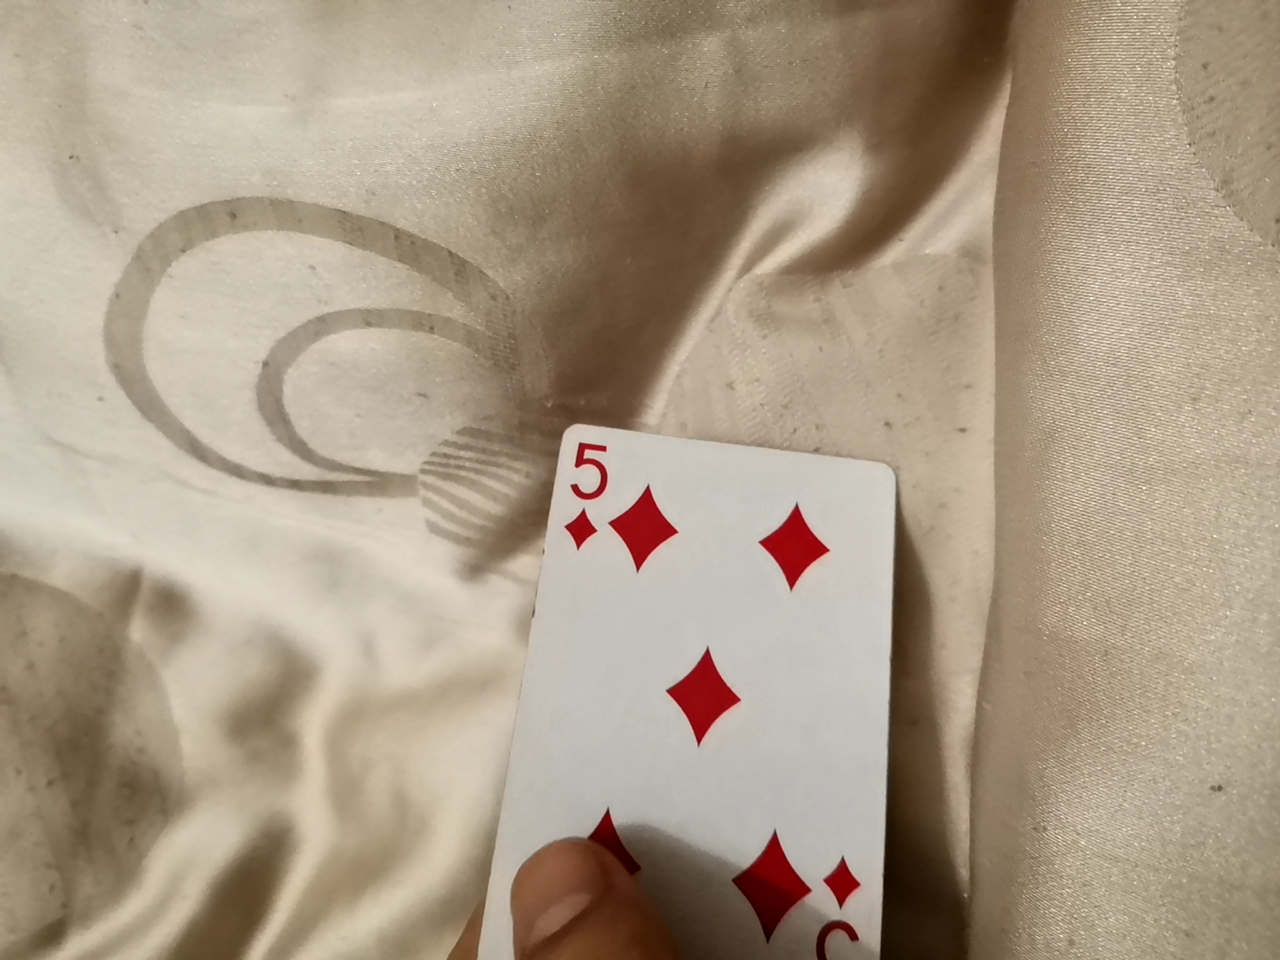fk 5: (489, 428, 872, 940)
